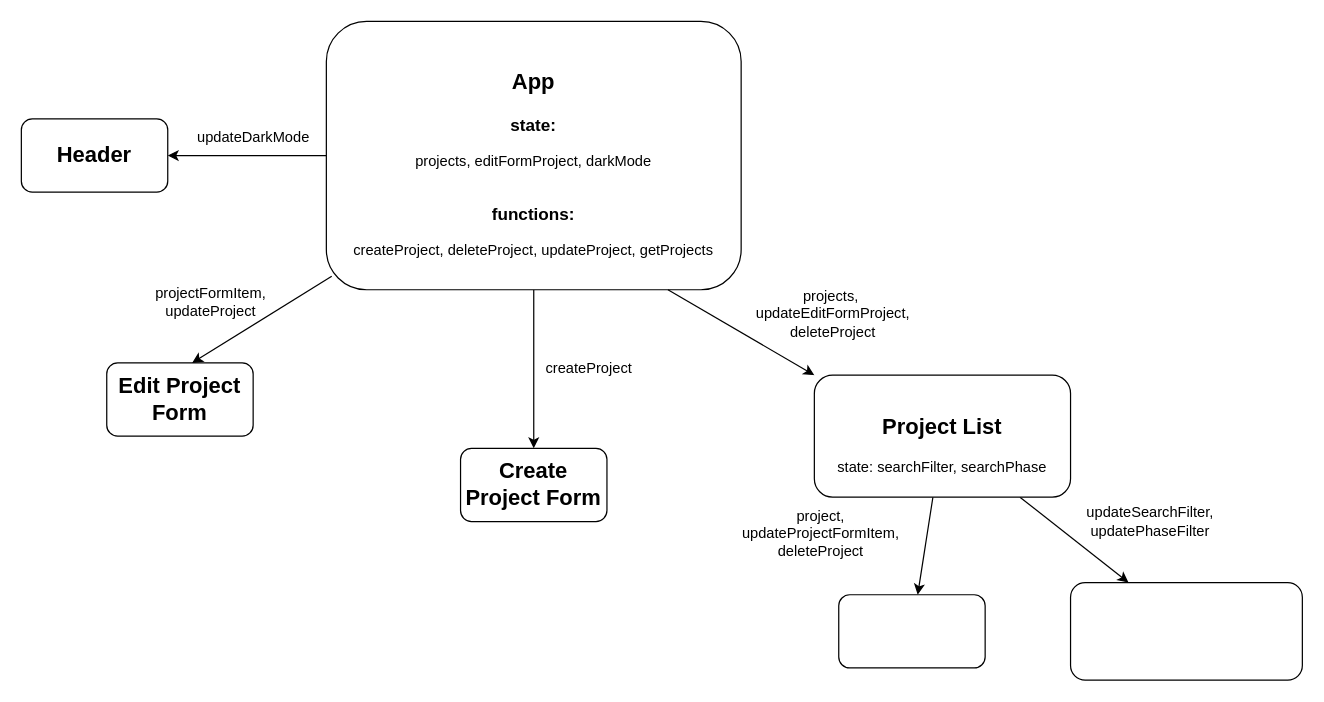
This 1324x702 diagram has some shape labels left out. The shapes that lost their labels are listed below. From the top down, each one's centre as x and y in pixels, then its label:
the point at 911,631: Project Item
the point at 1185,630: Search events: onChange, onClick
